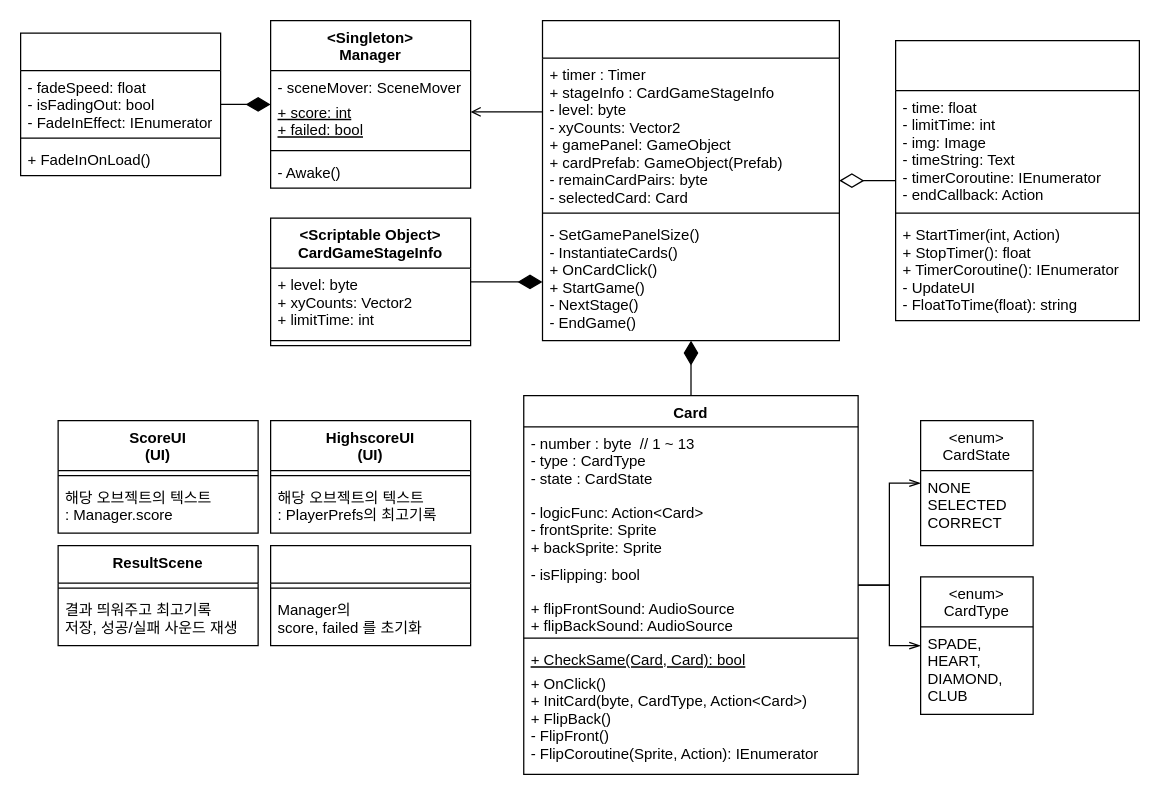
Image size: 1160x795. Some labels were removed from this diagram. The shapes that lost their labels are listed below. From the top down, each one's box as (x1, y1, x2, y2) in pixels, then its label:
(19, 32, 221, 176): SceneMover
(541, 19, 839, 341): CardGameManager
(894, 39, 1139, 321): Timer (UI)
(269, 544, 471, 646): LobbyScene
